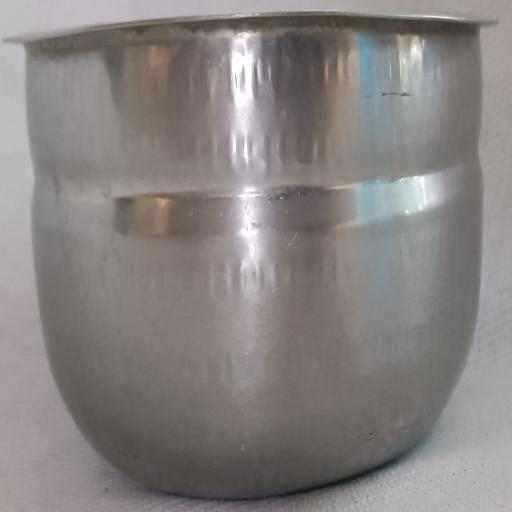vessel: (11, 13, 485, 497)
